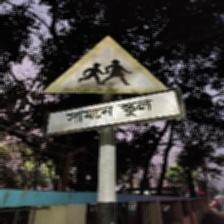School-in-front: (41, 34, 182, 137)
